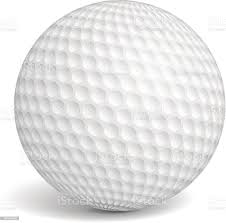golfball: (12, 1, 225, 212)
